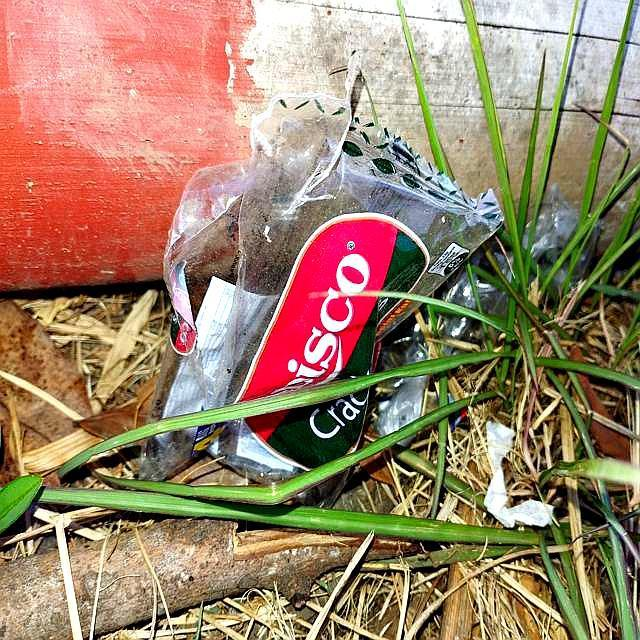Non-biodegradable: (149, 97, 497, 493)
